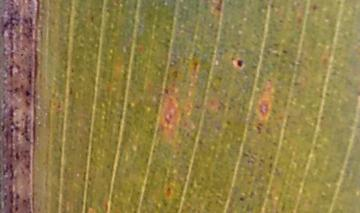tarspot: (2, 13, 18, 32), (3, 162, 15, 181), (214, 1, 225, 14), (23, 112, 29, 134), (234, 57, 244, 69), (8, 63, 15, 78), (8, 190, 14, 205), (254, 125, 262, 135), (310, 4, 318, 13), (281, 47, 289, 56), (14, 150, 20, 161), (9, 104, 14, 117), (24, 89, 31, 97), (1, 123, 6, 133), (162, 86, 169, 93), (2, 193, 8, 201), (13, 204, 19, 211), (7, 206, 13, 213), (14, 193, 20, 200), (24, 136, 30, 142), (237, 196, 244, 201), (9, 127, 14, 134), (21, 197, 26, 203), (20, 131, 24, 137)
